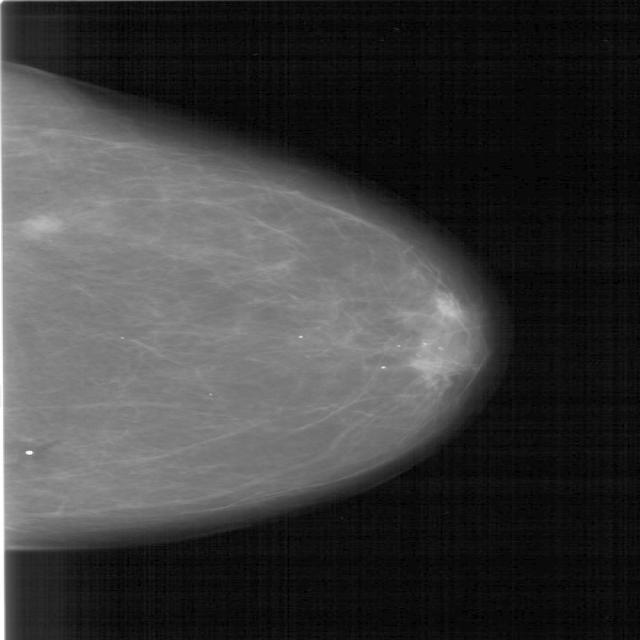tumour: (28, 214, 64, 234)
